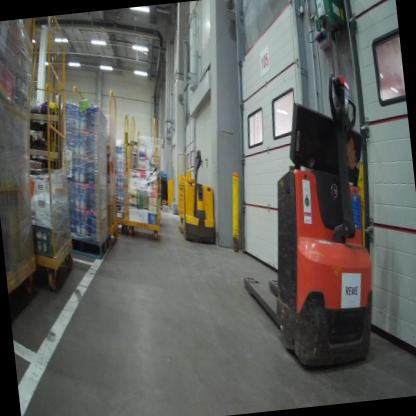pallet: (63, 232, 112, 261)
pallet_truck: (218, 59, 396, 376), (163, 138, 223, 251)
